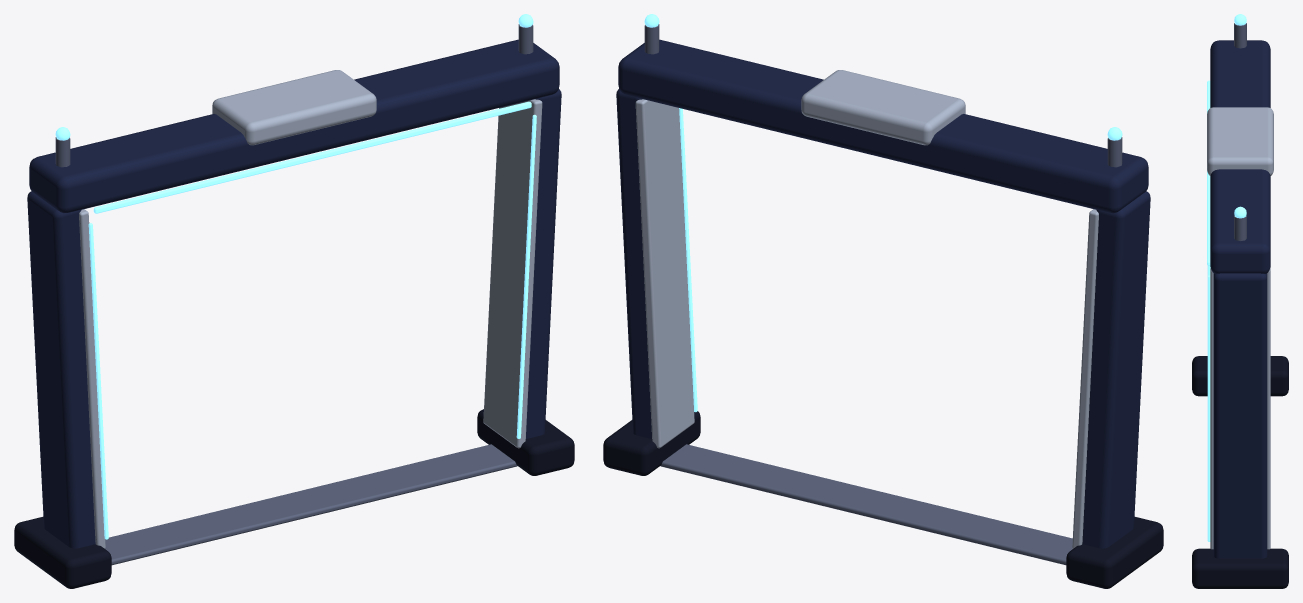
The model's file is gate.glb.
3 views of the same model, side by side, from view 1: azimuth 30°, elevation 25°; view 2: azimuth 150°, elevation 25°; view 3: azimuth 270°, elevation 25° (orthographic). The views are drawn at different scales.
Visible parts, largest first — view 1: root:plate, root:hull, root:alloy, root:dark, root:glow; view 2: root:plate, root:hull, root:alloy, root:dark, root:glow; view 3: root:plate, root:hull, root:dark, root:glow, root:alloy.
Boxes of the visible parts, <box> form: root:plate: <box>27,39,561,548</box>; root:hull: <box>79,70,542,548</box>; root:alloy: <box>55,24,533,565</box>; root:dark: <box>14,409,574,588</box>; root:glow: <box>55,14,536,539</box>; root:plate: <box>616,39,1150,548</box>; root:hull: <box>635,70,1098,548</box>; root:alloy: <box>644,24,1122,565</box>; root:dark: <box>603,411,1163,588</box>; root:glow: <box>644,14,1122,412</box>; root:plate: <box>1210,40,1270,558</box>; root:hull: <box>1207,107,1273,549</box>; root:dark: <box>1192,356,1288,588</box>; root:glow: <box>1207,14,1246,541</box>; root:alloy: <box>1234,23,1246,240</box>.
Bounding box in the file's own units: 4.66 × 3.84 × 0.9.
